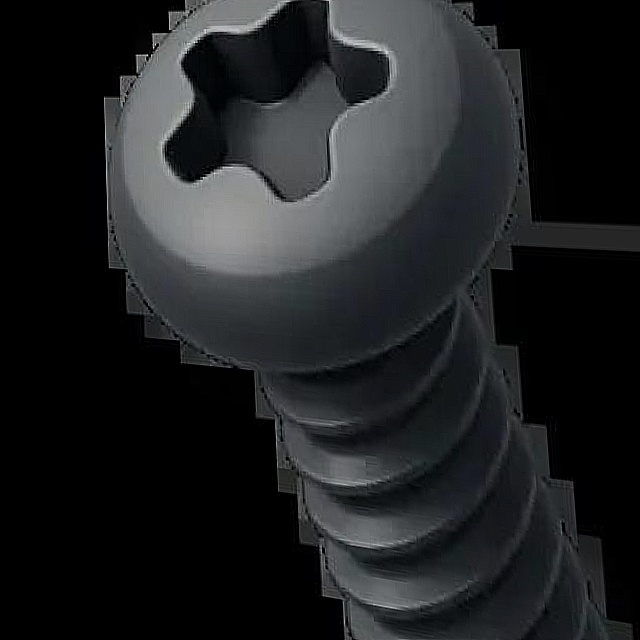torx: (98, 0, 548, 400)
